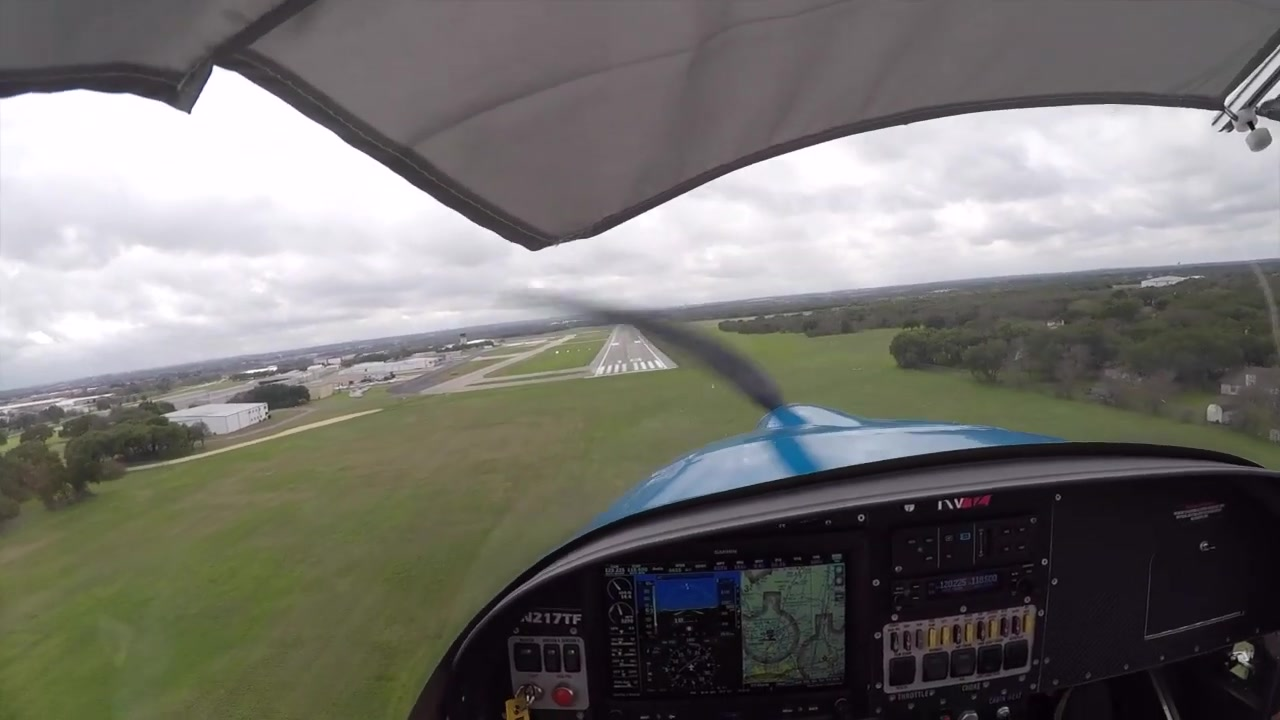entrance: (597, 360, 662, 374)
runway: (586, 320, 678, 382)
